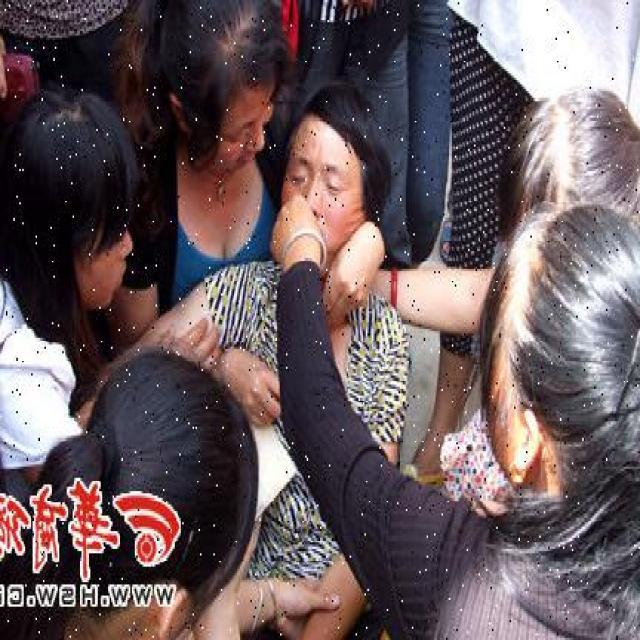fall: (243, 115, 402, 638)
